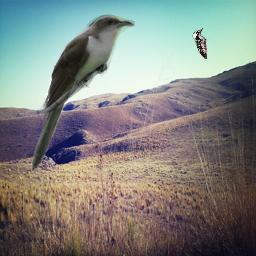Cuckoo: (27, 13, 135, 174)
Woodpecker: (192, 28, 207, 59)
